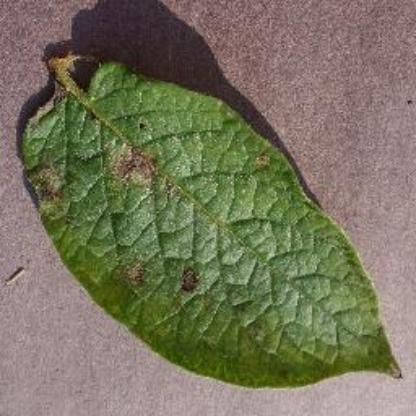Late-Blight: (13, 46, 402, 388)
